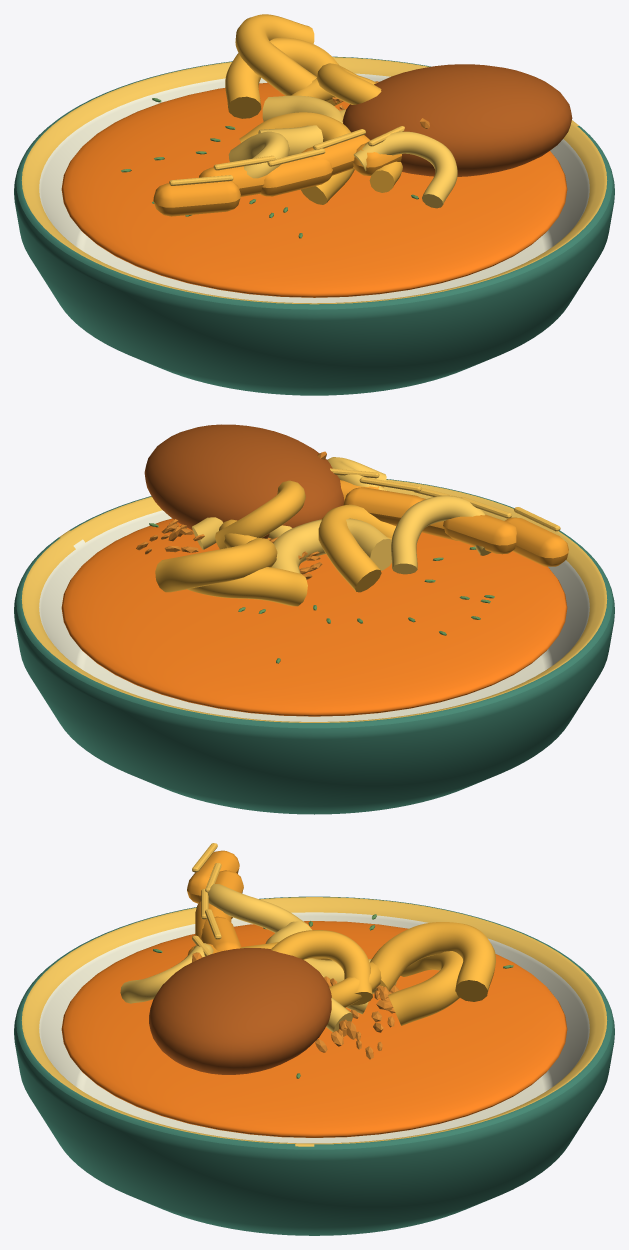
File: macmood-hero.glb
3 views of the same model, one above another, from view 1: azimuth 30°, elevation 25°; view 2: azimuth 150°, elevation 25°; view 3: azimuth 270°, elevation 25° (orthographic).
Visible parts, largest first — view 1: MacMood serving bowl, Creamy mac and cheese bed, Chicken katsu fillet, Golden elbow macaroni 14, Golden elbow macaroni 08, Golden elbow macaroni 06, Golden potato wedge, Golden elbow macaroni 03, Golden elbow macaroni 11, Golden potato wedge.002, Golden elbow macaroni 09, Golden elbow macaroni 16 (+4 smaller); view 2: MacMood serving bowl, Creamy mac and cheese bed, Chicken katsu fillet, Golden elbow macaroni 14, Golden elbow macaroni 11, Golden elbow macaroni 09, Golden elbow macaroni 03, Golden elbow macaroni 08, Golden elbow macaroni 16, Golden potato wedge.001, Golden potato wedge, Golden potato wedge.003 (+2 smaller); view 3: MacMood serving bowl, Creamy mac and cheese bed, Chicken katsu fillet, Golden elbow macaroni 14, Golden elbow macaroni 08, Golden elbow macaroni 16, Golden elbow macaroni 09, Golden elbow macaroni 06, Golden potato wedge, Golden elbow macaroni 03, Golden elbow macaroni 05, Golden potato wedge.003 (+1 smaller).
Part boxes in pixels (left/top/right/bottom): MacMood serving bowl: left=14, top=56, right=614, bottom=395; Creamy mac and cheese bed: left=61, top=82, right=567, bottom=297; Chicken katsu fillet: left=342, top=64, right=572, bottom=176; Golden elbow macaroni 14: left=235, top=14, right=316, bottom=95; Golden elbow macaroni 08: left=225, top=37, right=341, bottom=118; Golden elbow macaroni 06: left=353, top=131, right=457, bottom=208; Golden potato wedge: left=153, top=181, right=240, bottom=216; Golden elbow macaroni 03: left=258, top=95, right=343, bottom=155; Golden elbow macaroni 11: left=239, top=112, right=354, bottom=204; Golden potato wedge.002: left=260, top=157, right=332, bottom=196; Golden elbow macaroni 09: left=228, top=131, right=289, bottom=178; Golden elbow macaroni 16: left=317, top=63, right=381, bottom=104; MacMood serving bowl: left=14, top=479, right=614, bottom=814; Creamy mac and cheese bed: left=61, top=518, right=567, bottom=716; Chicken katsu fillet: left=144, top=424, right=344, bottom=538; Golden elbow macaroni 14: left=155, top=537, right=277, bottom=592; Golden elbow macaroni 11: left=318, top=504, right=395, bottom=592; Golden elbow macaroni 09: left=391, top=495, right=491, bottom=574; Golden elbow macaroni 03: left=271, top=518, right=391, bottom=573; Golden elbow macaroni 08: left=187, top=567, right=307, bottom=606; Golden elbow macaroni 16: left=215, top=480, right=305, bottom=549; Golden potato wedge.001: left=443, top=514, right=516, bottom=554; Golden potato wedge: left=505, top=517, right=568, bottom=566; Golden potato wedge.003: left=343, top=487, right=423, bottom=525; MacMood serving bowl: left=14, top=896, right=614, bottom=1235; Creamy mac and cheese bed: left=61, top=921, right=567, bottom=1137; Chicken katsu fillet: left=149, top=948, right=331, bottom=1074; Golden elbow macaroni 14: left=370, top=922, right=495, bottom=1001; Golden elbow macaroni 08: left=388, top=951, right=463, bottom=1025; Golden elbow macaroni 16: left=270, top=930, right=372, bottom=1005; Golden elbow macaroni 09: left=207, top=884, right=307, bottom=933; Golden elbow macaroni 06: left=120, top=943, right=213, bottom=1003; Golden potato wedge: left=187, top=850, right=239, bottom=903; Golden elbow macaroni 03: left=265, top=921, right=396, bottom=993; Golden elbow macaroni 05: left=329, top=962, right=381, bottom=1007; Golden potato wedge.003: left=201, top=916, right=241, bottom=951.
Bounding box in the file's own units: 2.85 × 1.27 × 2.85.
